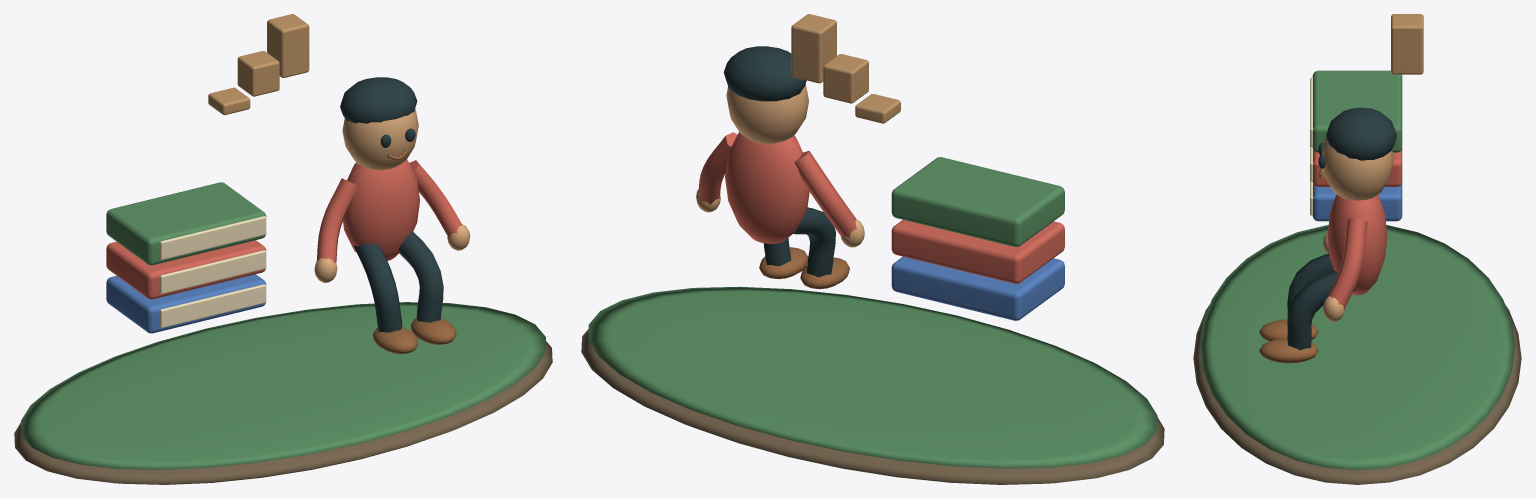
The model's file is complete-third-accumulation-tiredness.glb.
3 renders of one model, left to right at view 1: azimuth 30°, elevation 25°; view 2: azimuth 150°, elevation 25°; view 3: azimuth 270°, elevation 25°, orthographic. The views are drawn at different scales.
Parts seen in each view (by area): view 1: complete-third-accumulation-tiredness_surface_01, complete-third-accumulation-tiredness_surface_04, complete-third-accumulation-tiredness_surface_00, complete-third-accumulation-tiredness_surface_06, complete-third-accumulation-tiredness_surface_03, complete-third-accumulation-tiredness_surface_08, complete-third-accumulation-tiredness_surface_05, complete-third-accumulation-tiredness_surface_02, complete-third-accumulation-tiredness_surface_07; view 2: complete-third-accumulation-tiredness_surface_01, complete-third-accumulation-tiredness_surface_04, complete-third-accumulation-tiredness_surface_00, complete-third-accumulation-tiredness_surface_02, complete-third-accumulation-tiredness_surface_06, complete-third-accumulation-tiredness_surface_08, complete-third-accumulation-tiredness_surface_05, complete-third-accumulation-tiredness_surface_07; view 3: complete-third-accumulation-tiredness_surface_01, complete-third-accumulation-tiredness_surface_00, complete-third-accumulation-tiredness_surface_06, complete-third-accumulation-tiredness_surface_04, complete-third-accumulation-tiredness_surface_05, complete-third-accumulation-tiredness_surface_08, complete-third-accumulation-tiredness_surface_07, complete-third-accumulation-tiredness_surface_02, complete-third-accumulation-tiredness_surface_03.
Part boxes in pixels (x1=…): complete-third-accumulation-tiredness_surface_01: x1=20, y1=182, x2=546, y2=469; complete-third-accumulation-tiredness_surface_04: x1=106, y1=159, x2=462, y2=299; complete-third-accumulation-tiredness_surface_00: x1=14, y1=341, x2=552, y2=484; complete-third-accumulation-tiredness_surface_06: x1=340, y1=77, x2=443, y2=332; complete-third-accumulation-tiredness_surface_03: x1=160, y1=216, x2=266, y2=328; complete-third-accumulation-tiredness_surface_08: x1=208, y1=14, x2=309, y2=115; complete-third-accumulation-tiredness_surface_05: x1=314, y1=109, x2=470, y2=282; complete-third-accumulation-tiredness_surface_02: x1=106, y1=274, x2=266, y2=333; complete-third-accumulation-tiredness_surface_07: x1=373, y1=150, x2=456, y2=354; complete-third-accumulation-tiredness_surface_01: x1=588, y1=157, x2=1157, y2=468; complete-third-accumulation-tiredness_surface_04: x1=698, y1=132, x2=1064, y2=283; complete-third-accumulation-tiredness_surface_00: x1=581, y1=329, x2=1164, y2=484; complete-third-accumulation-tiredness_surface_02: x1=891, y1=256, x2=1064, y2=320; complete-third-accumulation-tiredness_surface_06: x1=723, y1=46, x2=835, y2=277; complete-third-accumulation-tiredness_surface_08: x1=791, y1=14, x2=900, y2=123; complete-third-accumulation-tiredness_surface_05: x1=696, y1=83, x2=864, y2=247; complete-third-accumulation-tiredness_surface_07: x1=759, y1=247, x2=849, y2=289; complete-third-accumulation-tiredness_surface_01: x1=1200, y1=70, x2=1514, y2=470; complete-third-accumulation-tiredness_surface_00: x1=1193, y1=304, x2=1521, y2=484; complete-third-accumulation-tiredness_surface_06: x1=1287, y1=107, x2=1396, y2=350; complete-third-accumulation-tiredness_surface_04: x1=1312, y1=148, x2=1402, y2=309; complete-third-accumulation-tiredness_surface_05: x1=1322, y1=137, x2=1393, y2=321; complete-third-accumulation-tiredness_surface_08: x1=1391, y1=14, x2=1423, y2=74; complete-third-accumulation-tiredness_surface_07: x1=1259, y1=168, x2=1324, y2=363; complete-third-accumulation-tiredness_surface_02: x1=1312, y1=182, x2=1402, y2=221; complete-third-accumulation-tiredness_surface_03: x1=1310, y1=77, x2=1313, y2=215.
Bounding box in the file's own units: 4.56 × 3.1 × 2.5.
